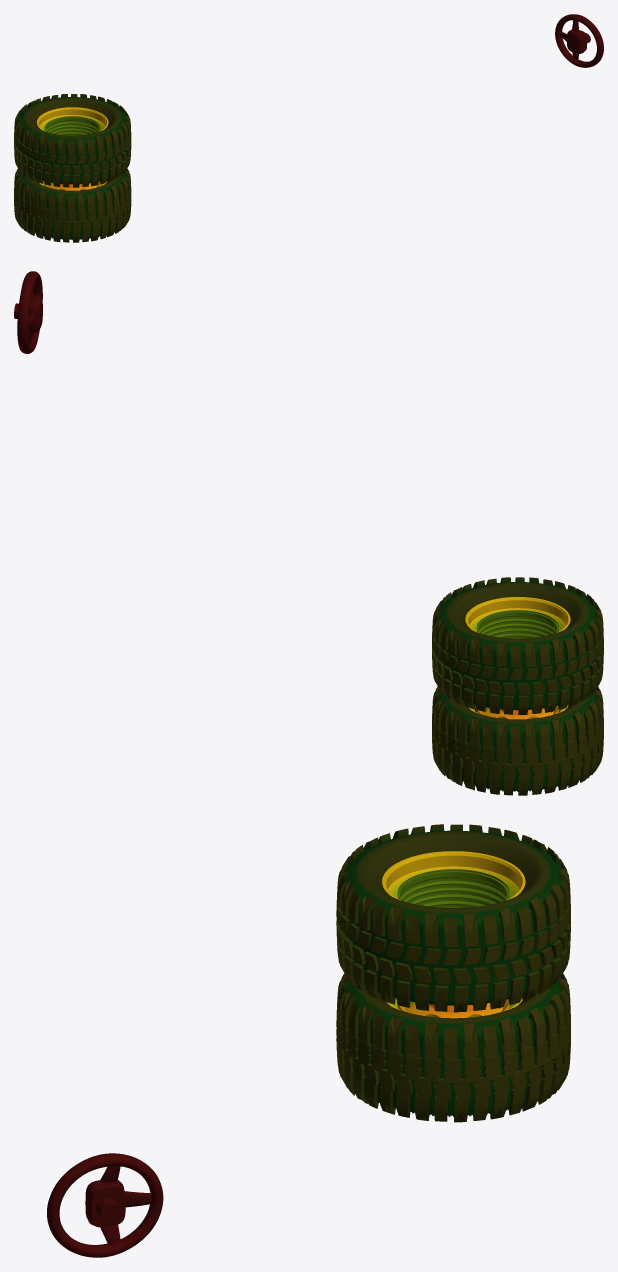
The model's file is hd_parts.glb.
3 views of the same model, one above another, from view 1: azimuth 30°, elevation 25°; view 2: azimuth 150°, elevation 25°; view 3: azimuth 270°, elevation 25° (orthographic). The views are drawn at different scales.
Visible parts, largest first — view 1: UTLTRUCK90_WheelStock_RR_RB1c_Tire_1k_0, UTLTRUCK90_WheelStock_RL_RB1c_Tire_1k_0, UTLTRUCK90_Steering_Wheel_UCB_Interiors_1_0, UTLTRUCK90_WheelStock_FL_RB1c_Tire_1k_0, UTLTRUCK90_WheelStock_FR_RB1c_Tire_1k_0; view 2: UTLTRUCK90_WheelStock_RL_RB1c_Tire_1k_0, UTLTRUCK90_WheelStock_RR_RB1c_Tire_1k_0, UTLTRUCK90_WheelStock_FL_RB1c_Tire_1k_0, UTLTRUCK90_Steering_Wheel_UCB_Interiors_1_0, UTLTRUCK90_WheelStock_FR_RB1c_Tire_1k_0; view 3: UTLTRUCK90_WheelStock_RL_RB1c_Tire_1k_0, UTLTRUCK90_WheelStock_RR_RB1c_Tire_1k_0, UTLTRUCK90_Steering_Wheel_UCB_Interiors_1_0, UTLTRUCK90_WheelStock_FR_RB1c_Tire_1k_0, UTLTRUCK90_WheelStock_FL_RB1c_Tire_1k_0.
Boxes of the visible parts, x1=… form: UTLTRUCK90_WheelStock_RR_RB1c_Tire_1k_0: x1=14, y1=93, x2=131, y2=242; UTLTRUCK90_WheelStock_RL_RB1c_Tire_1k_0: x1=14, y1=95, x2=131, y2=242; UTLTRUCK90_Steering_Wheel_UCB_Interiors_1_0: x1=555, y1=14, x2=603, y2=67; UTLTRUCK90_WheelStock_FL_RB1c_Tire_1k_0: x1=14, y1=189, x2=131, y2=239; UTLTRUCK90_WheelStock_FR_RB1c_Tire_1k_0: x1=14, y1=187, x2=131, y2=238; UTLTRUCK90_WheelStock_RL_RB1c_Tire_1k_0: x1=432, y1=577, x2=603, y2=795; UTLTRUCK90_WheelStock_RR_RB1c_Tire_1k_0: x1=432, y1=578, x2=603, y2=793; UTLTRUCK90_WheelStock_FL_RB1c_Tire_1k_0: x1=432, y1=714, x2=603, y2=791; UTLTRUCK90_Steering_Wheel_UCB_Interiors_1_0: x1=14, y1=271, x2=42, y2=353; UTLTRUCK90_WheelStock_FR_RB1c_Tire_1k_0: x1=432, y1=717, x2=603, y2=792; UTLTRUCK90_WheelStock_RL_RB1c_Tire_1k_0: x1=336, y1=824, x2=570, y2=1122; UTLTRUCK90_WheelStock_RR_RB1c_Tire_1k_0: x1=336, y1=825, x2=570, y2=1122; UTLTRUCK90_Steering_Wheel_UCB_Interiors_1_0: x1=47, y1=1153, x2=163, y2=1257; UTLTRUCK90_WheelStock_FR_RB1c_Tire_1k_0: x1=336, y1=1010, x2=570, y2=1117; UTLTRUCK90_WheelStock_FL_RB1c_Tire_1k_0: x1=336, y1=1015, x2=570, y2=1118.
Size of the model in its own units: 3.19 by 1.05 by 1.5.
